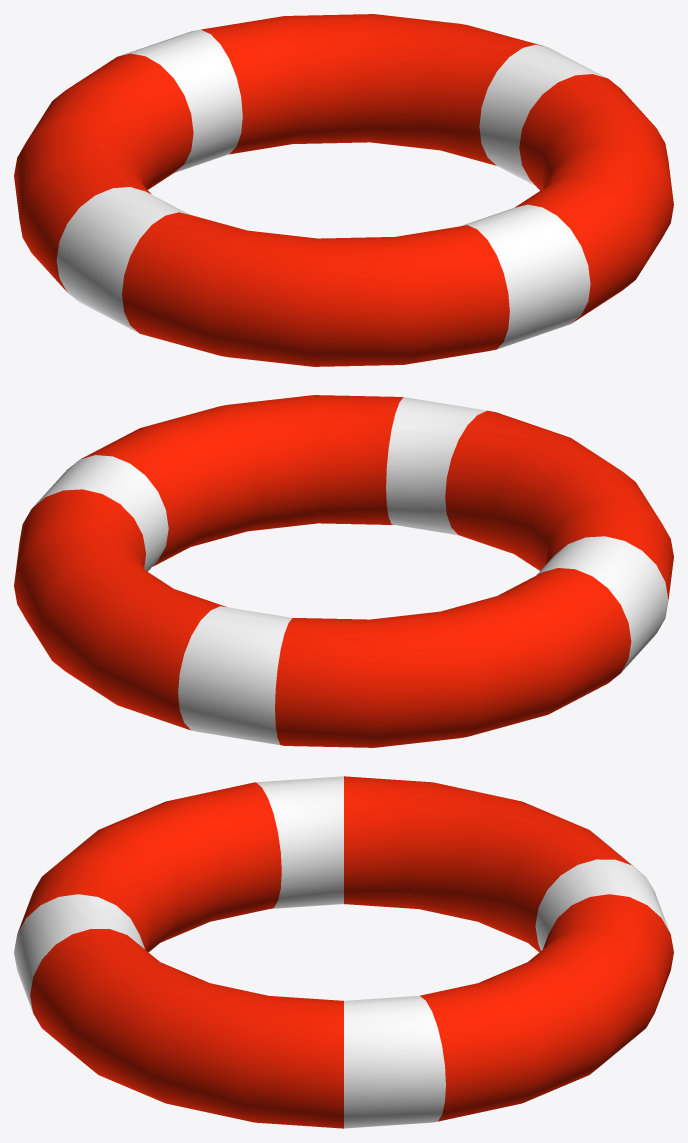
File: 1023_LifeBuoy.fbx
3 views of the same model, one above another, from view 1: azimuth 30°, elevation 25°; view 2: azimuth 150°, elevation 25°; view 3: azimuth 270°, elevation 25° (orthographic).
Parts seen in each view (by area): view 1: Lifebuoy1; view 2: Lifebuoy1; view 3: Lifebuoy1.
Part boxes in pixels (x1=…): Lifebuoy1: x1=14, y1=14, x2=673, y2=366; Lifebuoy1: x1=14, y1=395, x2=673, y2=747; Lifebuoy1: x1=14, y1=776, x2=673, y2=1128.
Bounding box in the file's own units: 248 × 48.47 × 248.
1 material, 1 textured.
